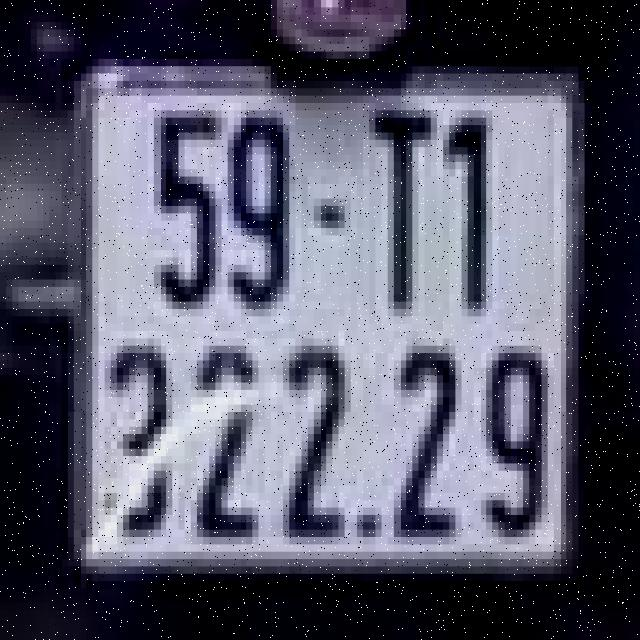1: (440, 99, 495, 320)
2: (384, 335, 464, 548), (277, 338, 357, 544), (190, 346, 264, 544)
3: (102, 338, 182, 544)
5: (135, 96, 228, 316)
9: (474, 324, 560, 552), (222, 110, 302, 316)
T: (363, 100, 437, 328)
